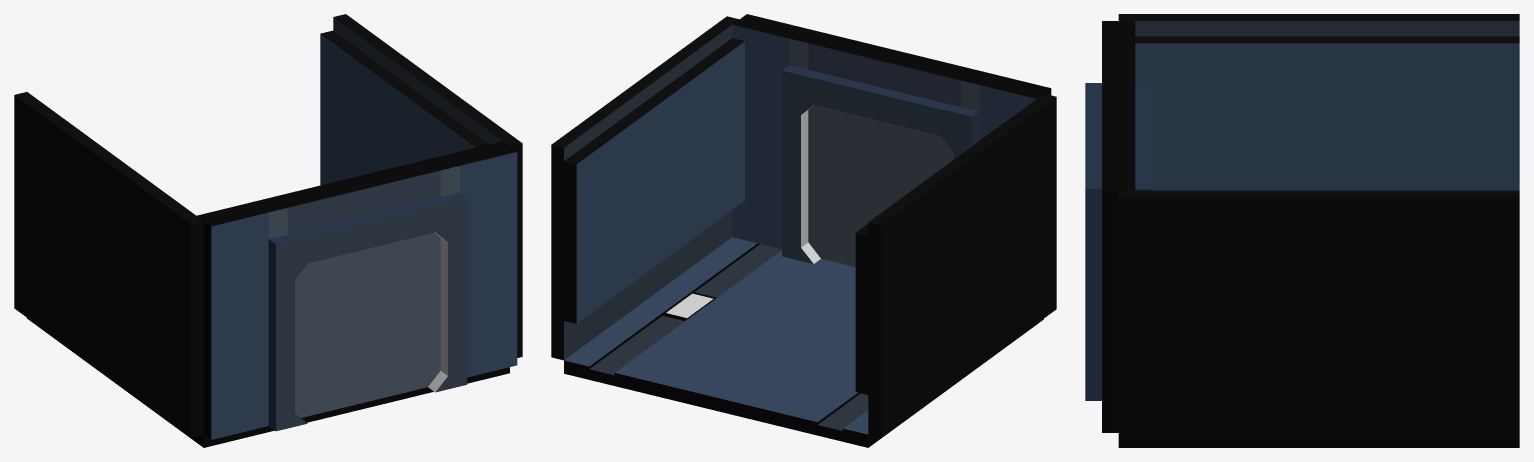
File: HallwayDeadEndSection.fbx
3 views of the same model, side by side, from view 1: azimuth 30°, elevation 25°; view 2: azimuth 150°, elevation 25°; view 3: azimuth 270°, elevation 25° (orthographic). The views are drawn at different scales.
Parts seen in each view (by area): view 1: Doorway, HallwayWallStraight.002, DoorClosed, HallwayWallStraight.001, HallwayFloorIStraight.001; view 2: HallwayWallStraight.002, HallwayWallStraight.001, HallwayFloorIStraight.001, Doorway, DoorClosed; view 3: HallwayWallStraight.001, HallwayWallStraight.002, Doorway, HallwayFloorIStraight.001.
Boxes of the visible parts, x1,y1,x2,y2 form: Doorway: [197, 141, 517, 439]; HallwayWallStraight.002: [14, 92, 203, 437]; DoorClosed: [295, 232, 440, 417]; HallwayWallStraight.001: [320, 14, 522, 357]; HallwayFloorIStraight.001: [27, 318, 509, 447]; HallwayWallStraight.002: [855, 93, 1056, 437]; HallwayWallStraight.001: [551, 16, 744, 360]; HallwayFloorIStraight.001: [564, 237, 1043, 447]; Doorway: [732, 14, 1051, 263]; DoorClosed: [808, 105, 953, 266]; HallwayWallStraight.001: [1118, 190, 1519, 439]; HallwayWallStraight.002: [1118, 14, 1519, 190]; Doorway: [1085, 21, 1151, 432]; HallwayFloorIStraight.001: [1118, 440, 1519, 447].
Size of the model in its own units: 650 by 425 by 650.
